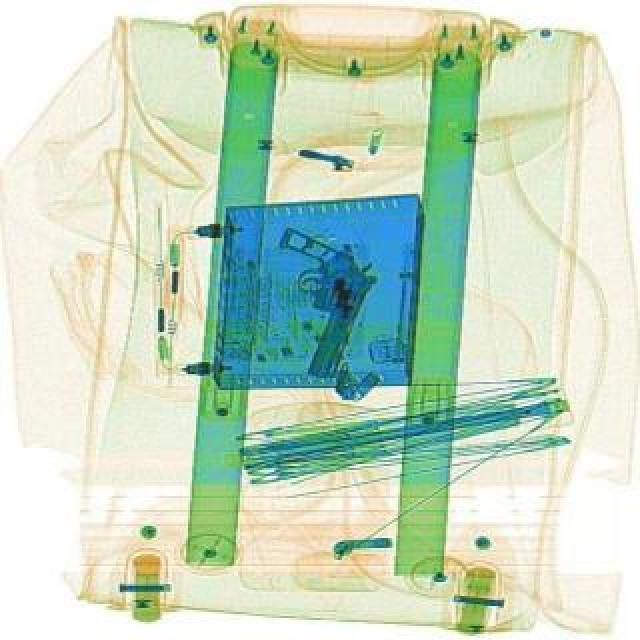gun: (240, 224, 384, 384)
